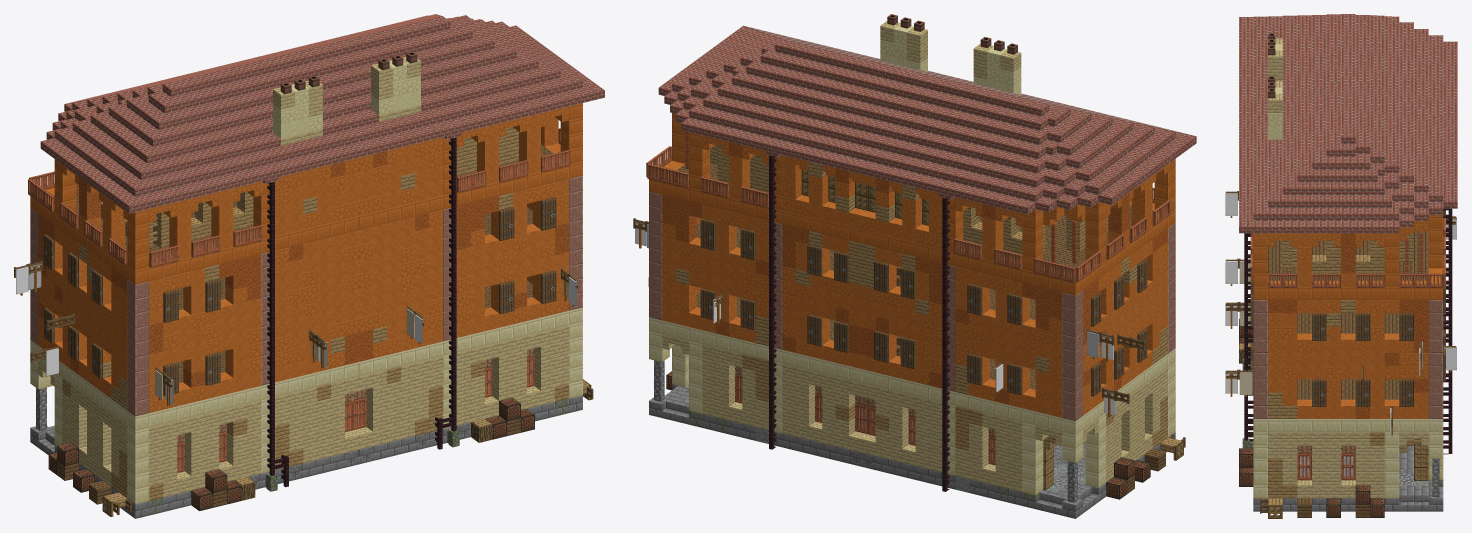
The model's file is nha-02.fbx.
3 renders of one model, left to right at view 1: azimuth 30°, elevation 25°; view 2: azimuth 150°, elevation 25°; view 3: azimuth 270°, elevation 25°, orthographic. The views are drawn at different scales.
Parts seen in each view (by area): view 1: nha-02; view 2: nha-02; view 3: nha-02.
Boxes of the visible parts, x1,y1,x2,y2 form: nha-02: [14, 14, 604, 518]; nha-02: [633, 14, 1196, 518]; nha-02: [1225, 14, 1457, 518].
Size of the model in its own units: 3600 by 2656 by 1594.
1 material, 1 textured.
